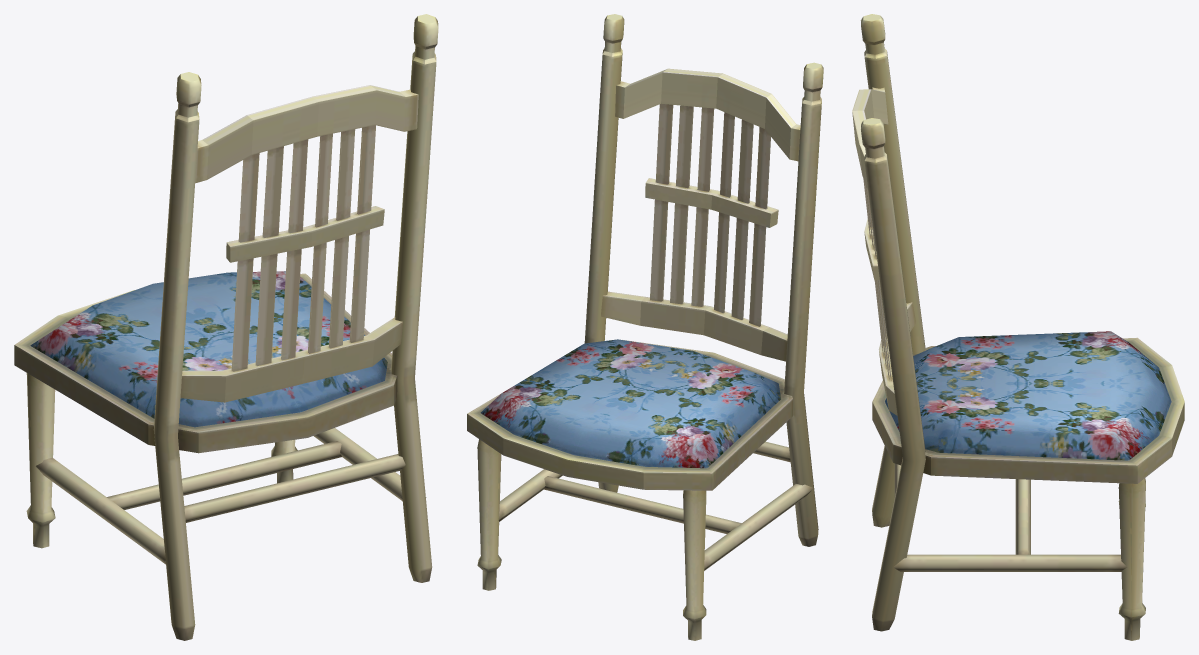
File: furni_0200123_03.FBX
The picture shows the model from 3 angles, left to right: view 1: azimuth 30°, elevation 25°; view 2: azimuth 150°, elevation 25°; view 3: azimuth 270°, elevation 25°; orthographic projection. The views are drawn at different scales.
Visible parts, largest first — view 1: furni_0200123; view 2: furni_0200123; view 3: furni_0200123.
Part boxes in pixels (x1,y1,x2,y2): furni_0200123: [14, 14, 438, 640]; furni_0200123: [467, 14, 823, 640]; furni_0200123: [852, 14, 1184, 640].
Size of the model in its own units: 59.64 by 112 by 65.6.
